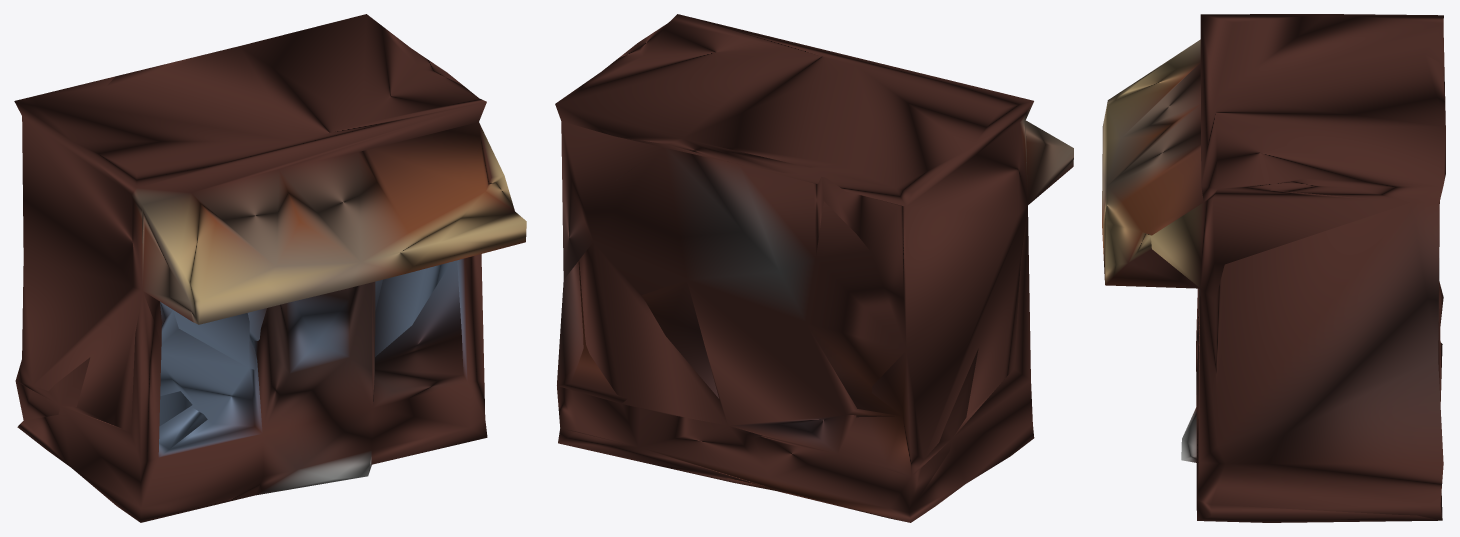
The model's file is gen3d-storefront-lod1.glb.
3 views of the same model, side by side, from view 1: azimuth 30°, elevation 25°; view 2: azimuth 150°, elevation 25°; view 3: azimuth 270°, elevation 25° (orthographic).
Parts seen in each view (by area): view 1: part_0; view 2: part_0; view 3: part_0.
Part boxes in pixels (bbox=[...]): part_0: bbox=[14, 14, 526, 522]; part_0: bbox=[555, 14, 1073, 522]; part_0: bbox=[1102, 14, 1445, 522].
Size of the model in its own units: 1.09 by 1 by 0.9191.
